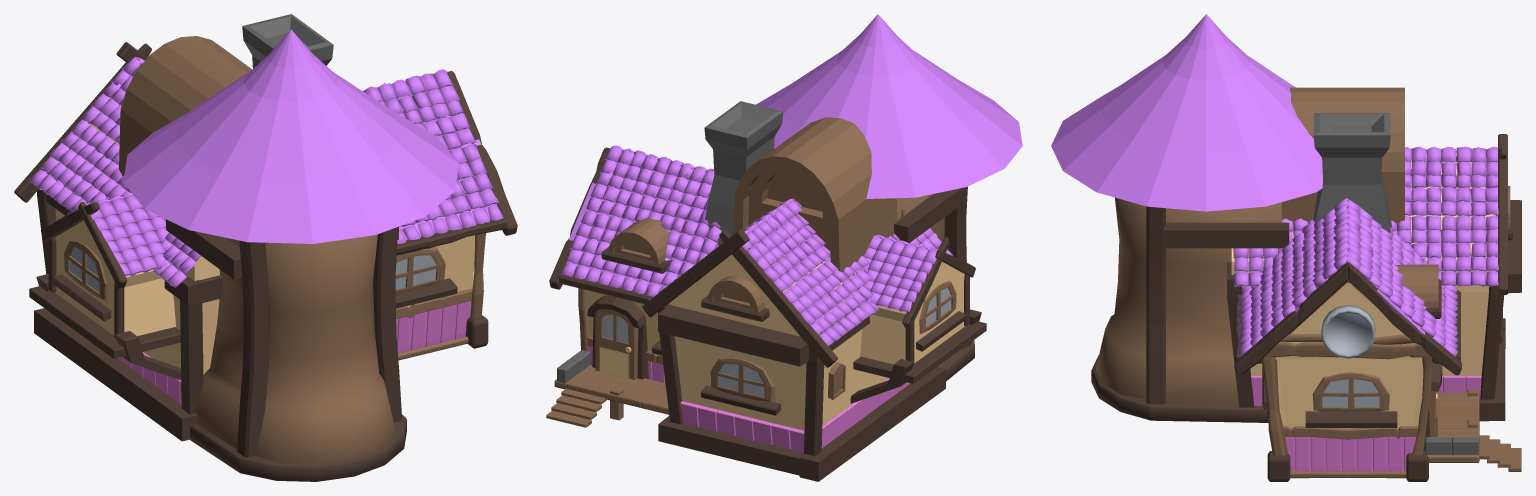
Rendered from Coloured_MageHouse_1.fbx.
The picture shows the model from 3 angles, left to right: view 1: azimuth 30°, elevation 25°; view 2: azimuth 150°, elevation 25°; view 3: azimuth 270°, elevation 25°; orthographic projection. The views are drawn at different scales.
Parts seen in each view (by area): view 1: ColouredHouse.016; view 2: ColouredHouse.016; view 3: ColouredHouse.016.
Part boxes in pixels (<box>): ColouredHouse.016: <box>14,14,517,481</box>; ColouredHouse.016: <box>546,14,1022,481</box>; ColouredHouse.016: <box>1051,14,1521,481</box>.
Size of the model in its own units: 1945 by 1891 by 2185.
